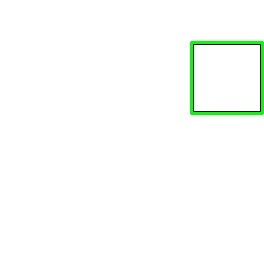line_segment: (190, 41, 264, 115)
